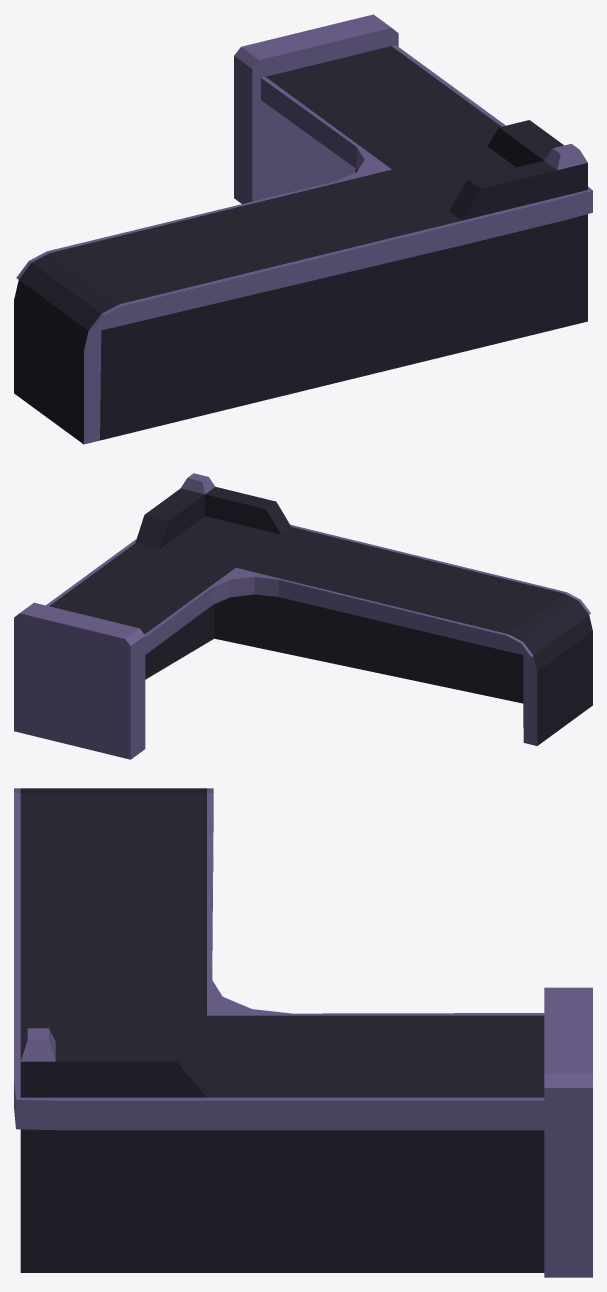
Rendered from L_Desk.fbx.
The picture shows the model from 3 angles, top to bottom: view 1: azimuth 30°, elevation 25°; view 2: azimuth 150°, elevation 25°; view 3: azimuth 270°, elevation 25°; orthographic projection. The views are drawn at different scales.
Parts seen in each view (by area): view 1: L_Desk; view 2: L_Desk; view 3: L_Desk.
Part boxes in pixels (x1,y1,x2,y2): L_Desk: [14, 14, 592, 444]; L_Desk: [14, 473, 592, 759]; L_Desk: [14, 788, 592, 1277].
Size of the model in its own units: 4.05 by 1.3 by 2.98.
